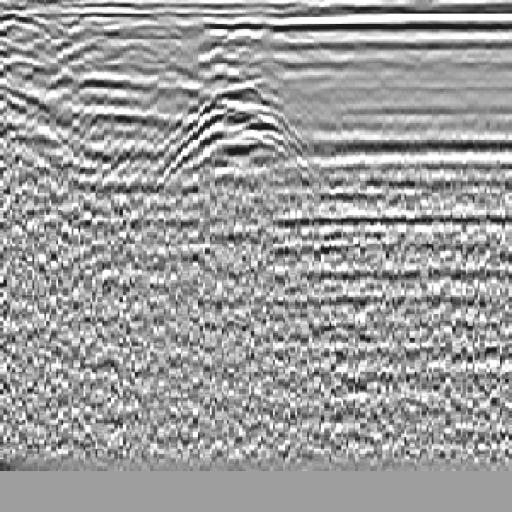metalic: (135, 68, 342, 234)
